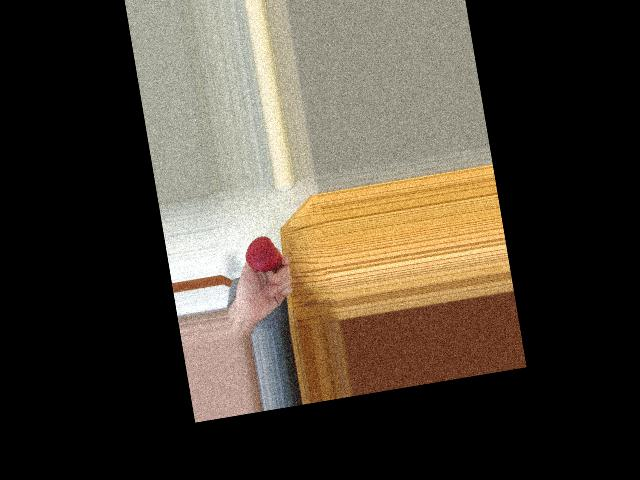apple: (242, 232, 282, 274)
